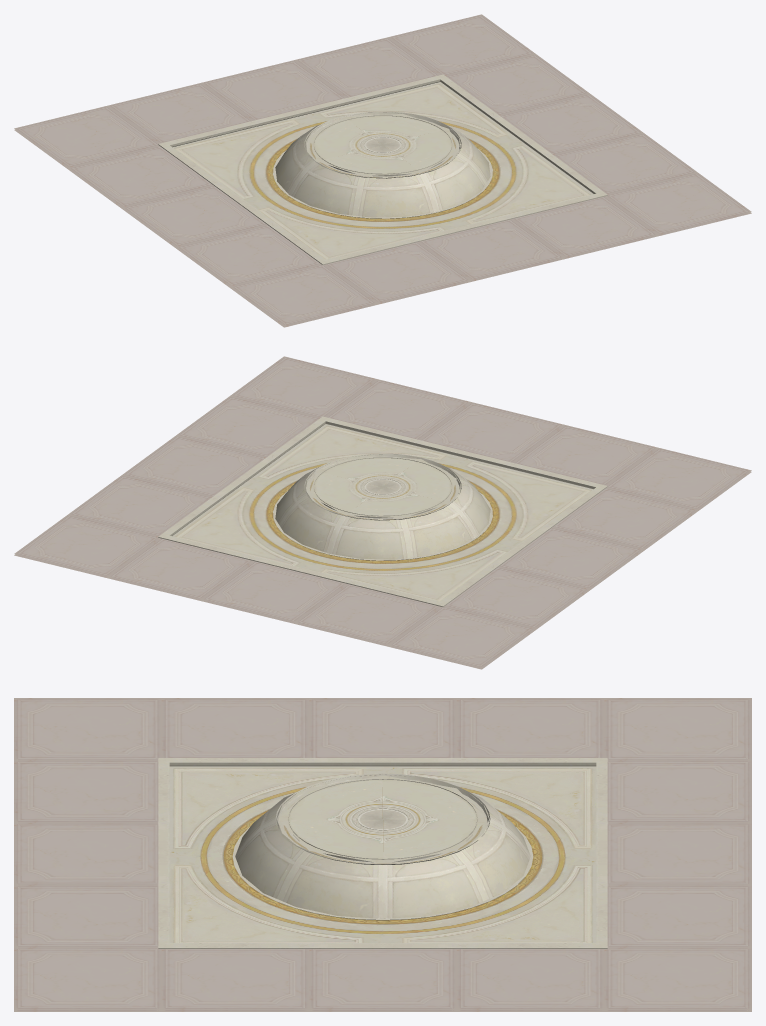
Rendered from Homeworld_Interior_Fd_Room_Q_Ceiling_01_Vo.fbx.
3 renders of one model, top to bottom at view 1: azimuth 30°, elevation 25°; view 2: azimuth 150°, elevation 25°; view 3: azimuth 270°, elevation 25°, orthographic. The views are drawn at different scales.
Parts seen in each view (by area): view 1: Homeworld_Interior_Fd_Room_Ceiling_01_Vo (×16), Homeworld_Interior_Fd_Room_Ceiling_04_Vo; view 2: Homeworld_Interior_Fd_Room_Ceiling_01_Vo (×16), Homeworld_Interior_Fd_Room_Ceiling_04_Vo; view 3: Homeworld_Interior_Fd_Room_Ceiling_01_Vo (×16), Homeworld_Interior_Fd_Room_Ceiling_04_Vo.
Part boxes in pixels (x1,y1,x2,y2): Homeworld_Interior_Fd_Room_Ceiling_01_Vo (×16): (14, 14, 751, 327); Homeworld_Interior_Fd_Room_Ceiling_04_Vo: (158, 74, 607, 264); Homeworld_Interior_Fd_Room_Ceiling_01_Vo (×16): (14, 356, 751, 669); Homeworld_Interior_Fd_Room_Ceiling_04_Vo: (158, 416, 607, 606); Homeworld_Interior_Fd_Room_Ceiling_01_Vo (×16): (14, 698, 751, 1011); Homeworld_Interior_Fd_Room_Ceiling_04_Vo: (158, 758, 607, 948).
Size of the model in its own units: 25 by 1.6 by 25.
